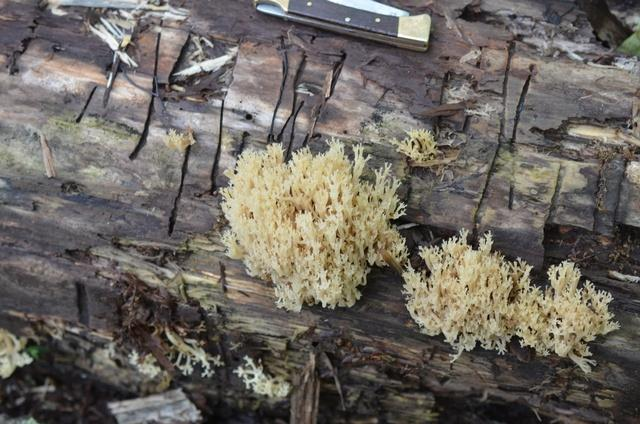Edible Mushroom: (217, 136, 409, 313), (399, 226, 620, 373)
